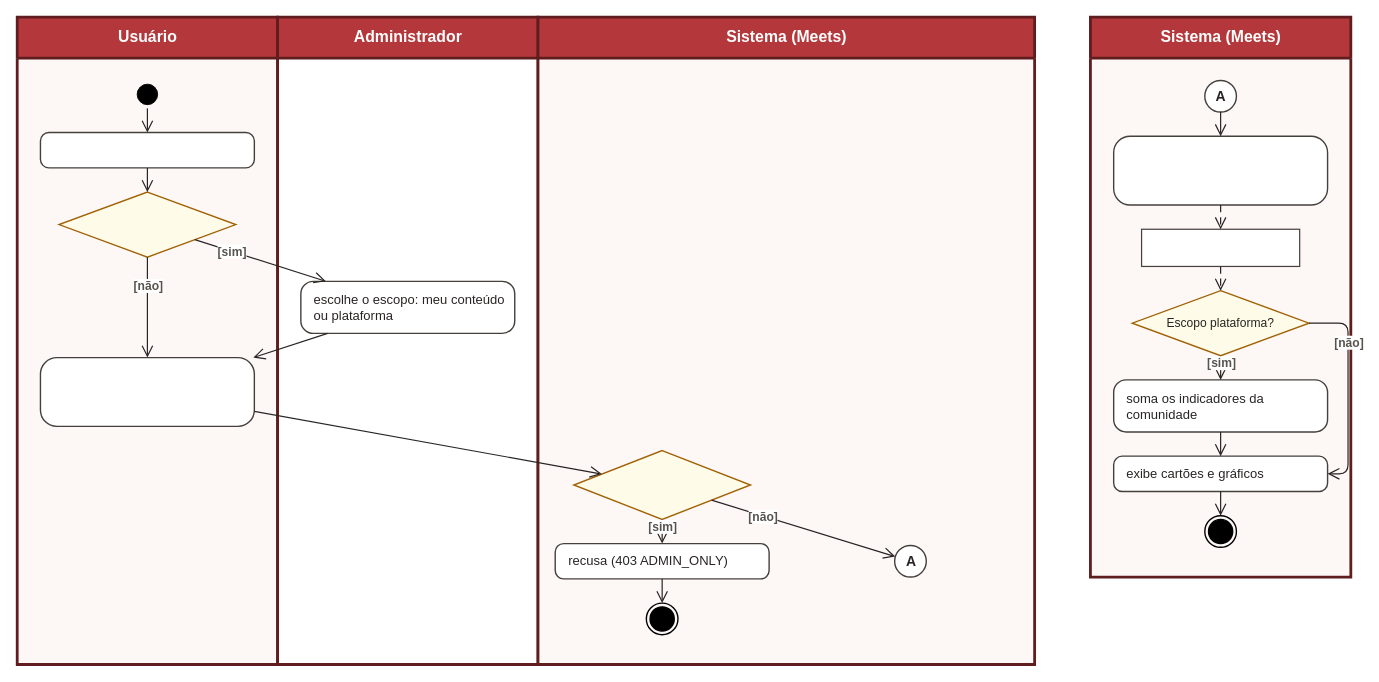
The diagram is 1379 pixels wide and 682 high, and some of its shapes have lost their labels. The centre of each missing label's shape, as x and y in pixels:
abre “Dashboard” no menu: point (147, 149)
calcula em paralelo os painéis de posts, eventos, avaliações e apresentadores: point (1220, 170)
escolhe o período: tudo, 7, 30 ou 90 dias (pode trocar a qualquer momento): point (147, 391)
p : Painéis [calculados]: point (1220, 247)
Plataforma sem ser admin?: point (662, 484)
É administrador?: point (147, 224)
